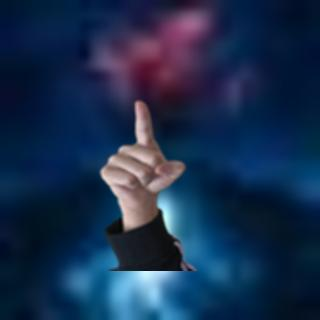IRRITATED: (95, 97, 188, 207)
